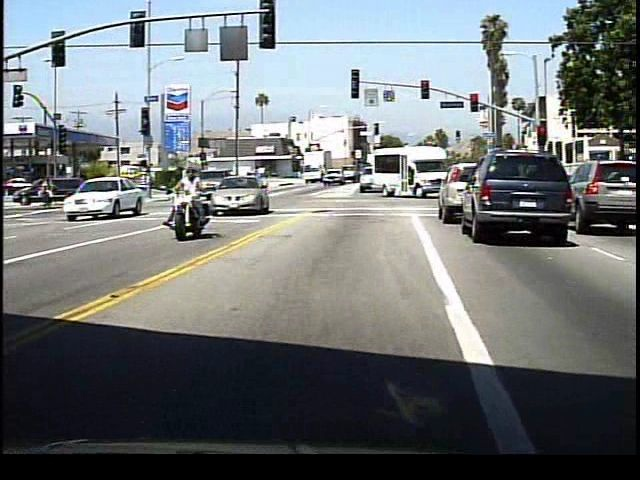person: (173, 166, 217, 238)
